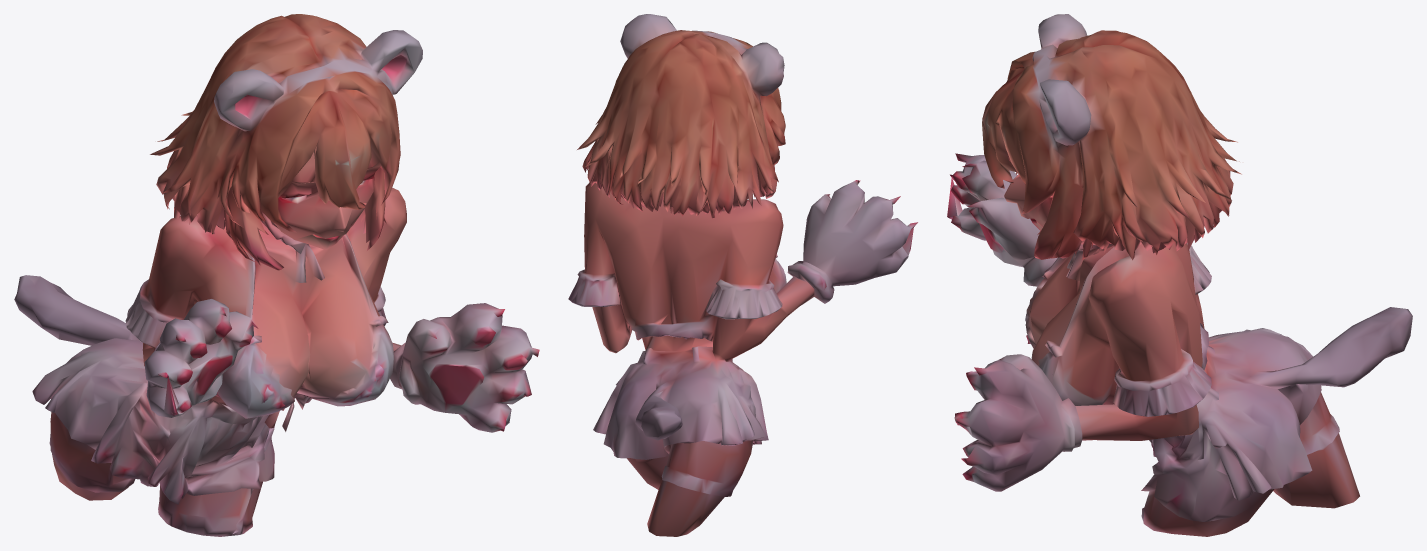
File: 01a1b77b-0ec8-706b-925e-50f0aba0d149.glb
3 renders of one model, left to right at view 1: azimuth 30°, elevation 25°; view 2: azimuth 150°, elevation 25°; view 3: azimuth 270°, elevation 25°, orthographic. The views are drawn at different scales.
Visible parts, largest first — view 1: model; view 2: model; view 3: model.
Boxes of the visible parts, x1,y1,x2,y2 form: model: (14,14,539,536); model: (568,14,917,536); model: (947,14,1412,536).
Size of the model in its own units: 1.16 by 1.5 by 1.26.
